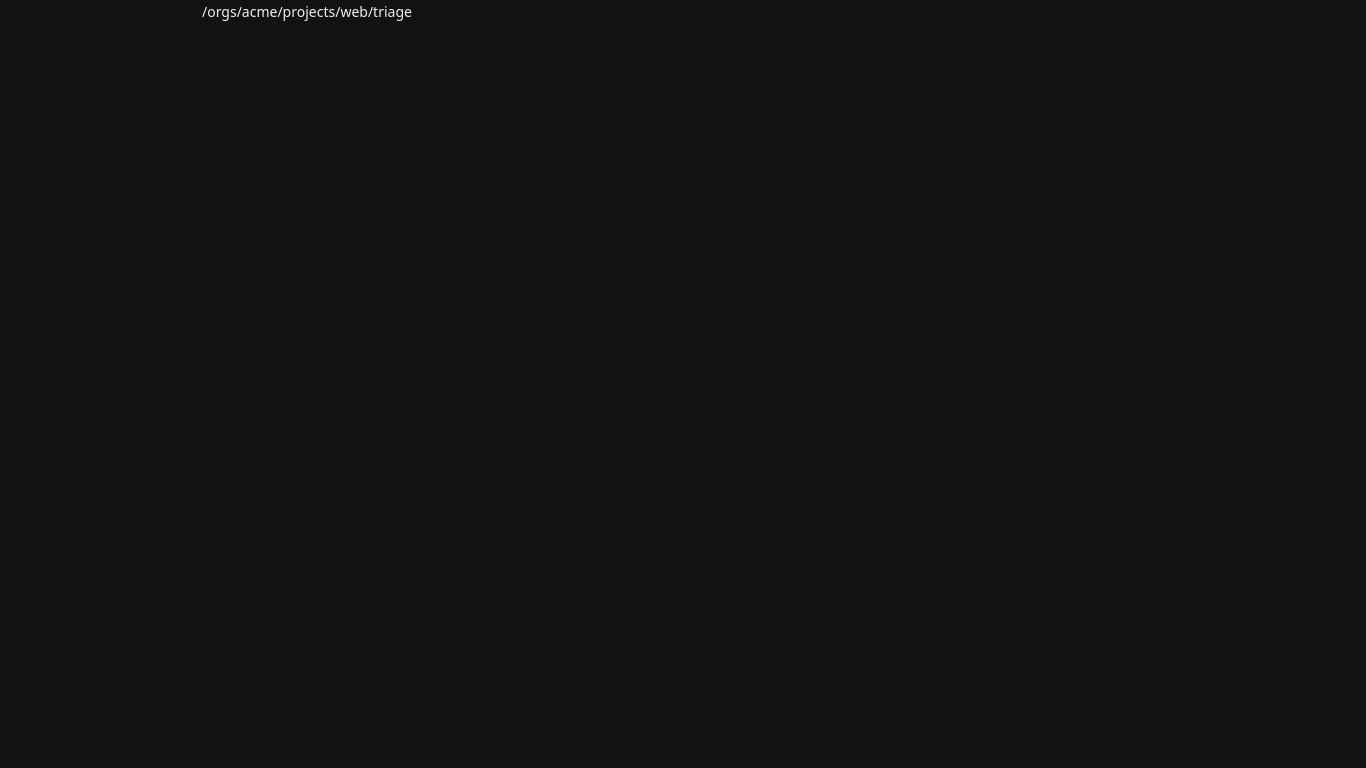
it: server search › clears the results when the query is emptied
Press k
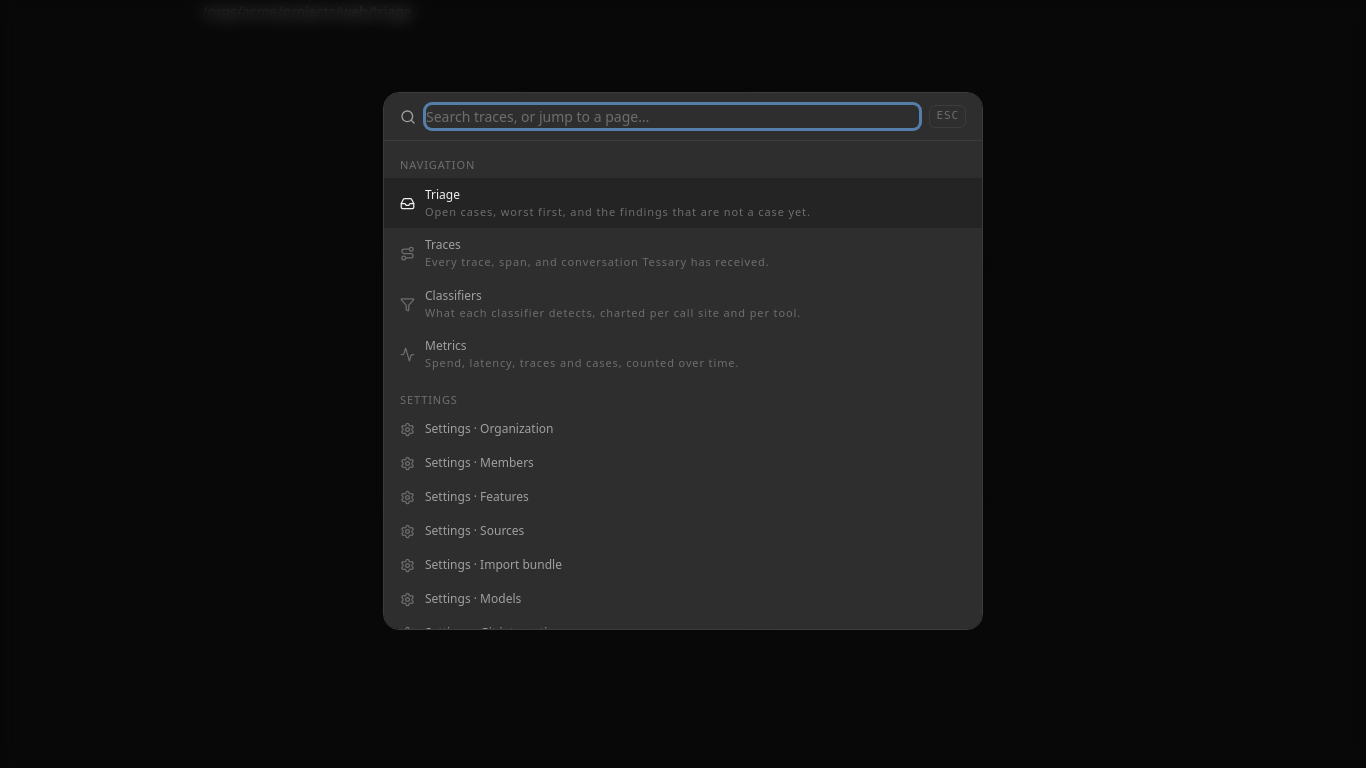
Type "trace" into the field named "Search commands" at (673, 117), box [426,105,920,128]
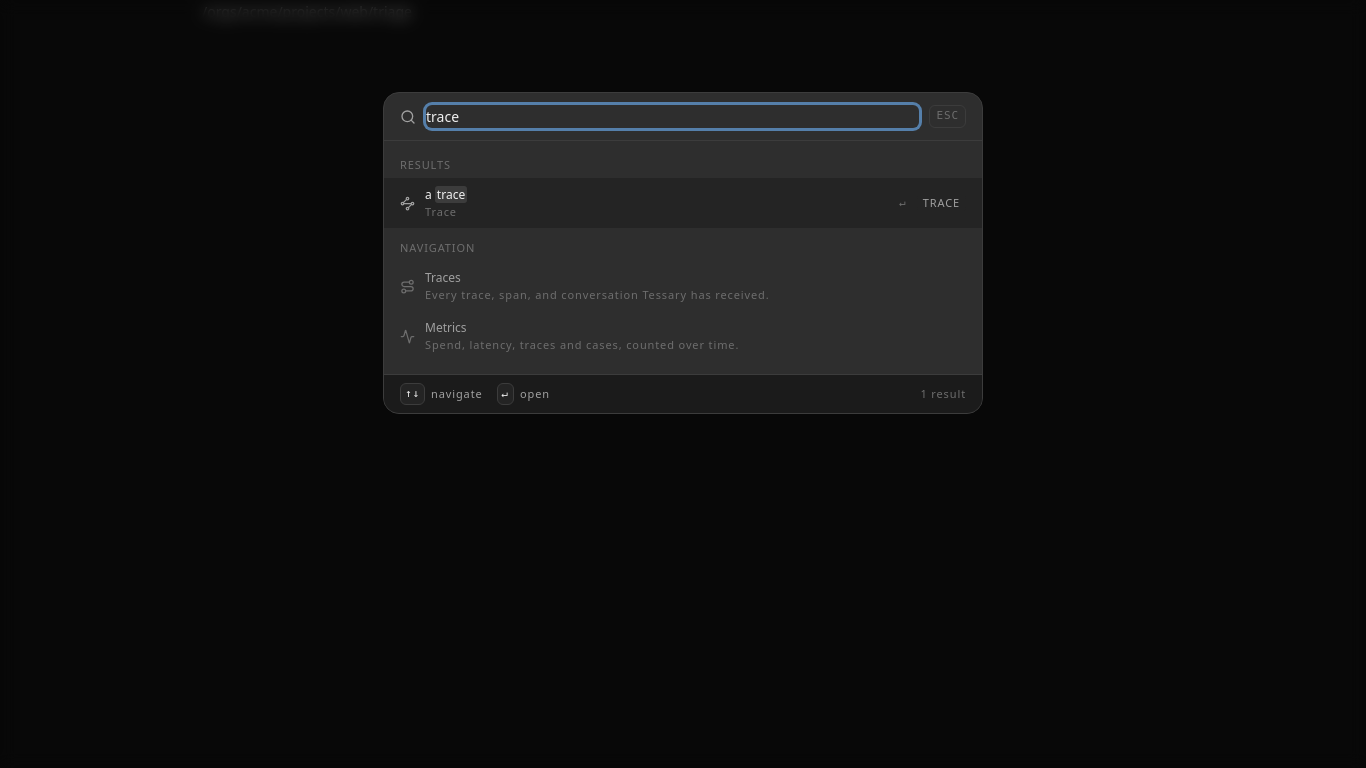
Expected: the text "1 result" is shown, [920,386,966,402]
Clear the field named "Search commands" at (673, 117), box [426,105,920,128]
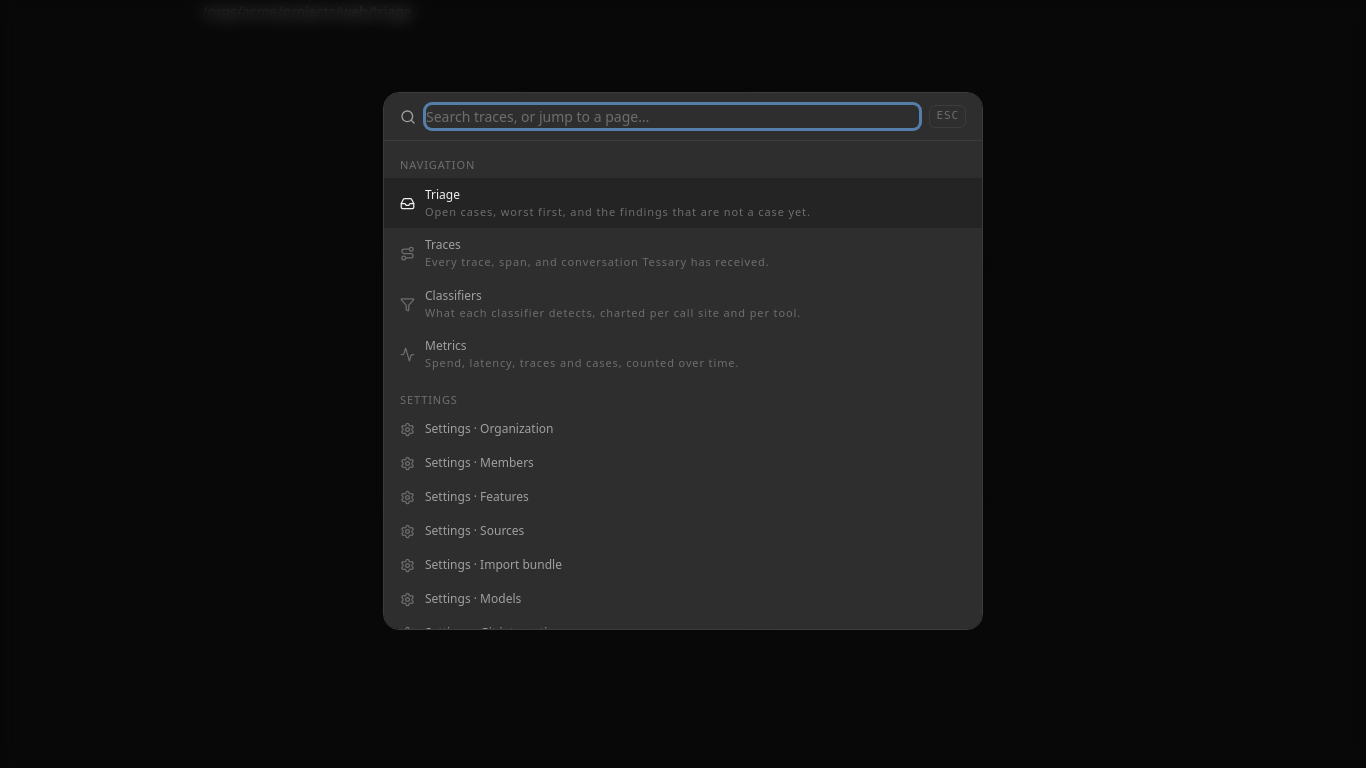
Expected: the text "Results" is gone
